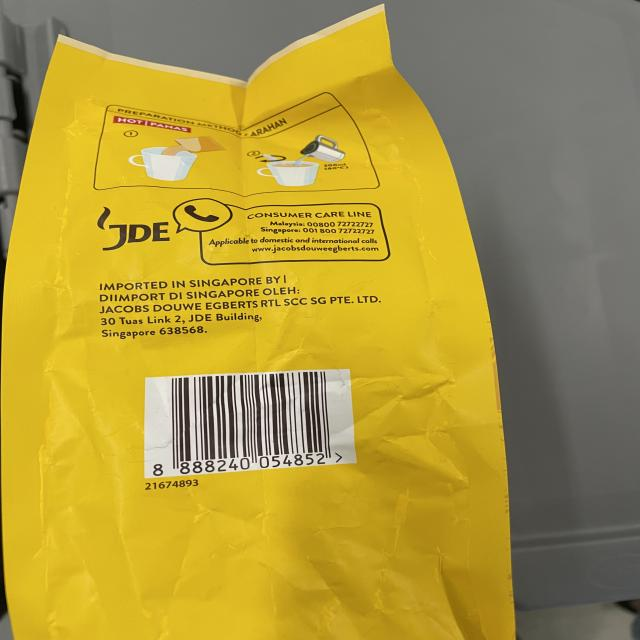object_name: (24, 43, 475, 640)
